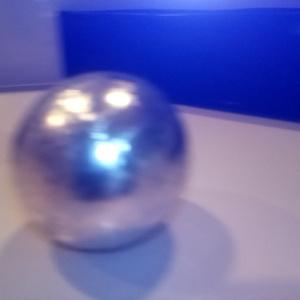alive_ball: (13, 71, 188, 251)
